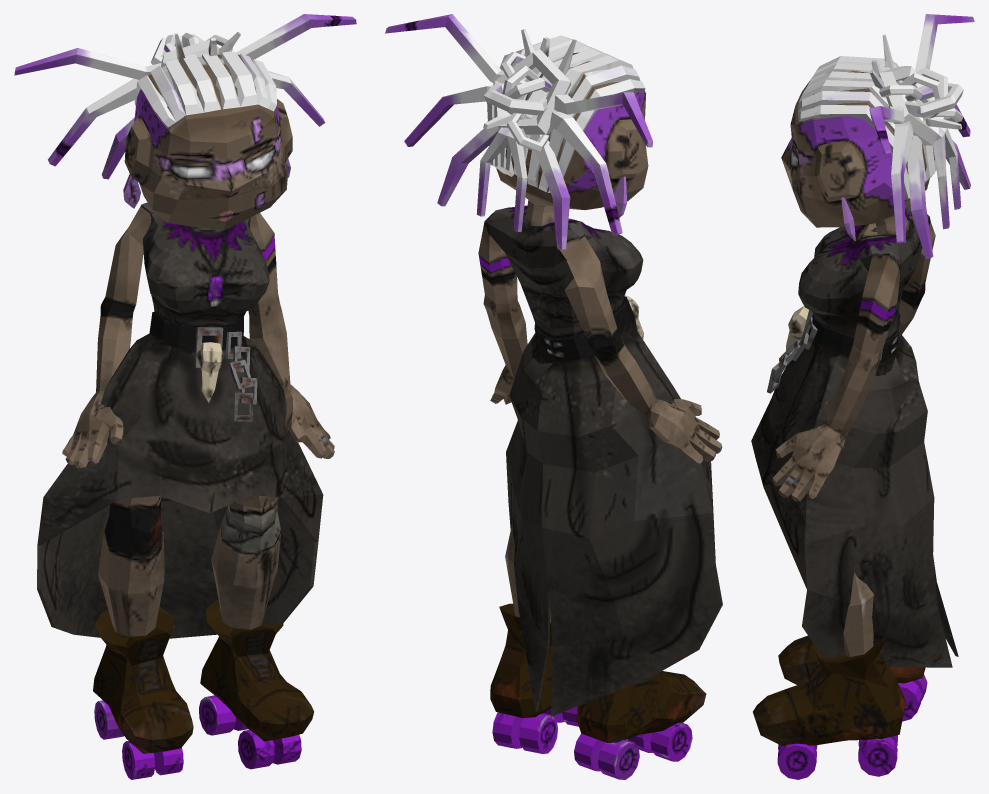
File: bruja_000050.obj
The picture shows the model from 3 angles, left to right: view 1: azimuth 30°, elevation 25°; view 2: azimuth 150°, elevation 25°; view 3: azimuth 270°, elevation 25°; orthographic projection. The views are drawn at different scales.
Visible parts, largest first — view 1: Bruja_Plane.001; view 2: Bruja_Plane.001; view 3: Bruja_Plane.001.
Boxes of the visible parts, <box> form: Bruja_Plane.001: <box>14,14,356,779</box>; Bruja_Plane.001: <box>385,14,722,779</box>; Bruja_Plane.001: <box>751,14,974,779</box>.
Size of the model in its own units: 7.83 by 16.46 by 4.69.
